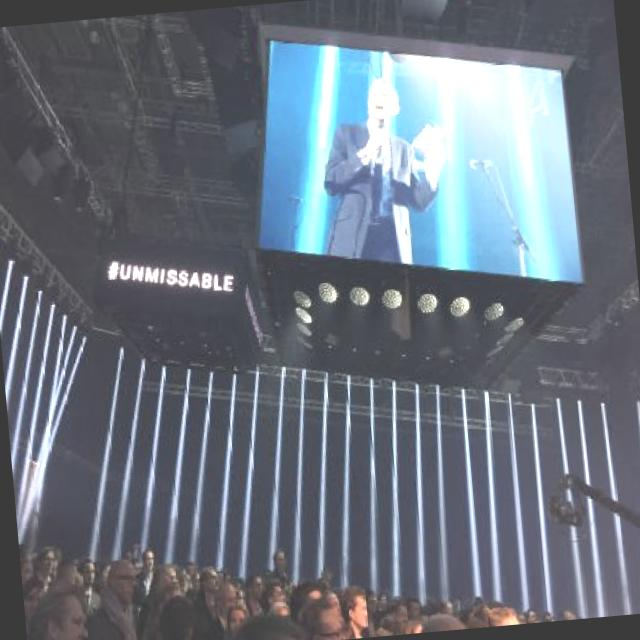Person: (304, 89, 447, 268), (65, 553, 140, 640), (19, 542, 59, 629), (185, 562, 234, 630), (280, 575, 340, 629), (137, 604, 204, 640), (66, 556, 106, 616), (31, 599, 89, 640), (128, 550, 164, 608), (150, 558, 190, 608), (232, 576, 266, 632), (250, 580, 286, 628), (342, 588, 374, 638), (314, 591, 344, 640), (262, 544, 294, 585)
